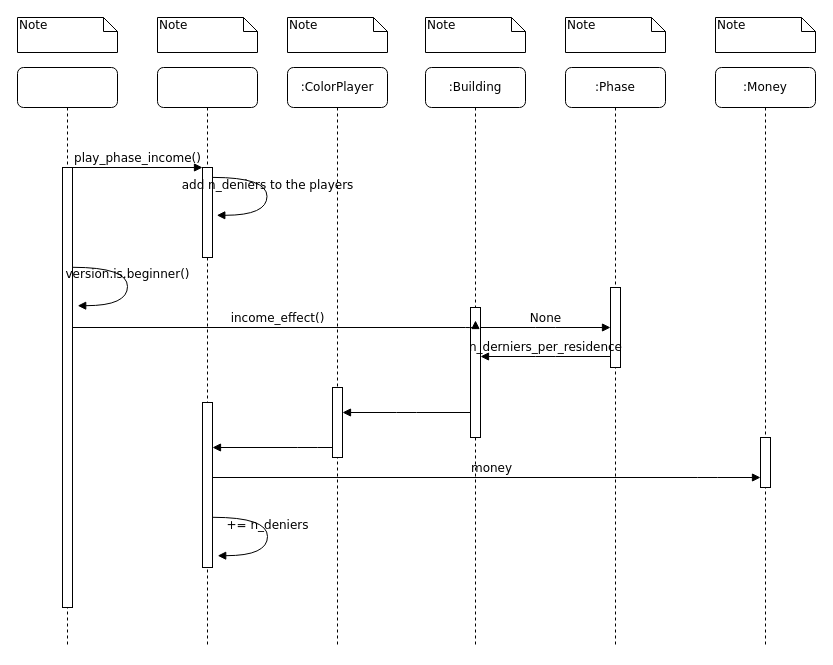
Some shapes in this 833 by 665 pixel diagram are drawn without their labels. The box of each missing label's shape, as (x1, y1, x2, y2) in pixels:
:Game: (16, 66, 118, 648)
:Player: (156, 66, 258, 648)
